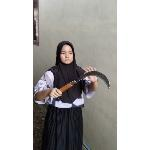Celurit: (55, 68, 113, 98)
